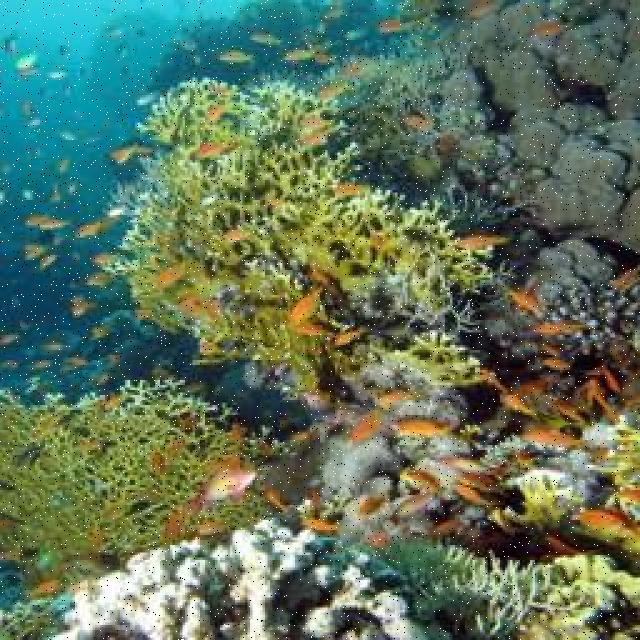fish: (180, 472, 259, 517), (385, 415, 454, 437), (524, 432, 593, 453), (291, 284, 322, 326)
reefs: (98, 74, 519, 396), (1, 375, 297, 587), (42, 517, 432, 638)
